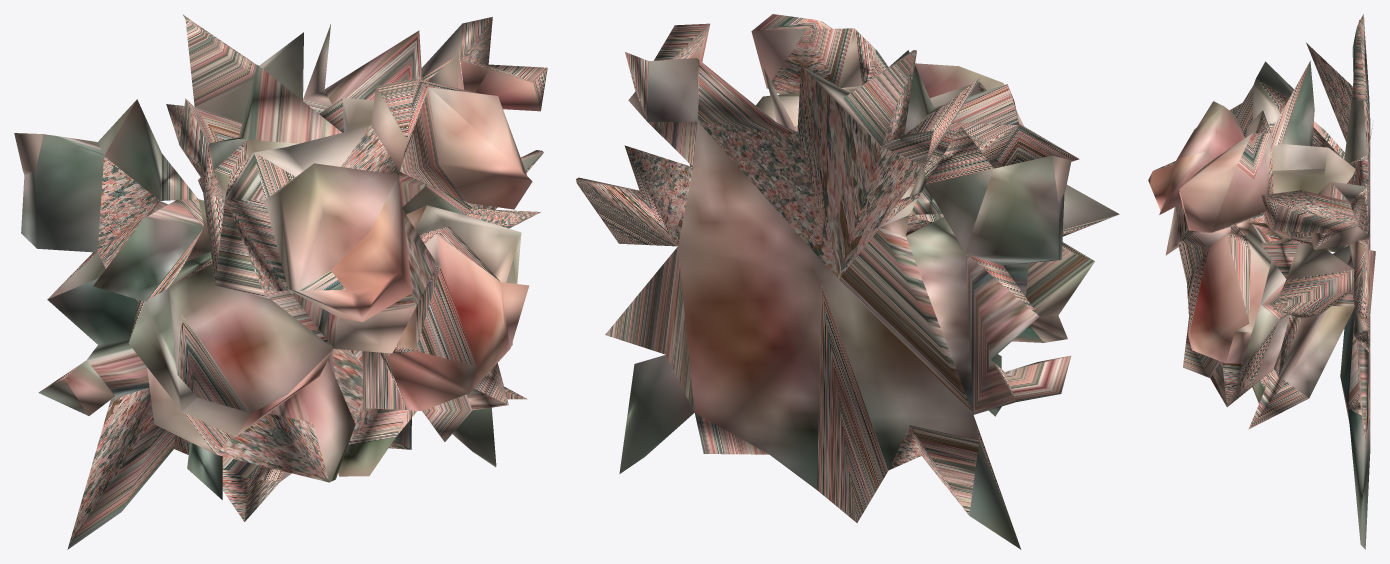
The picture shows the model from 3 angles, left to right: view 1: azimuth 30°, elevation 25°; view 2: azimuth 150°, elevation 25°; view 3: azimuth 270°, elevation 25°; orthographic projection. The views are drawn at different scales.
Parts seen in each view (by area): view 1: Rose-Bouquet-9-11; view 2: Rose-Bouquet-9-11; view 3: Rose-Bouquet-9-11.
Part boxes in pixels (x1,y1,x2,y2): Rose-Bouquet-9-11: (14, 14, 547, 549); Rose-Bouquet-9-11: (576, 14, 1119, 549); Rose-Bouquet-9-11: (1148, 14, 1375, 549).
Bounding box in the file's own units: 0.2403 × 0.2302 × 0.1151.
Materials: 1 (1 with a texture image).
